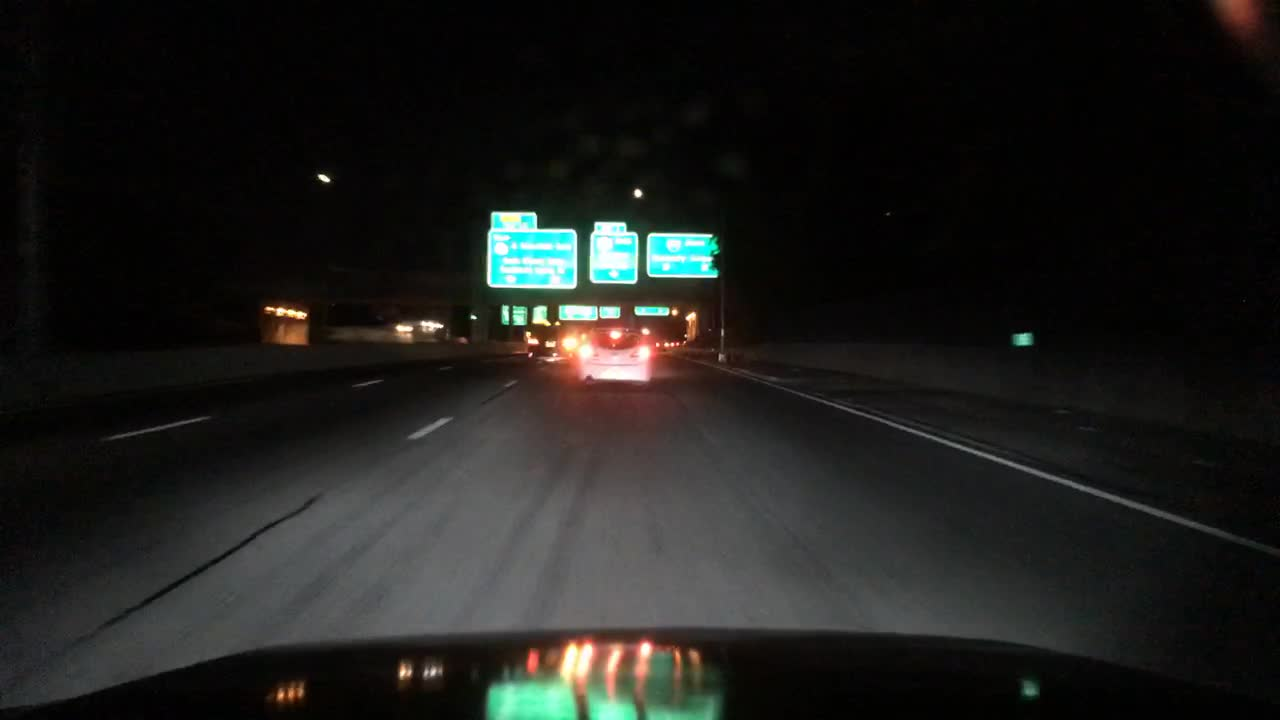car: (580, 326, 654, 387), (526, 321, 562, 363), (393, 314, 445, 335), (558, 329, 582, 355), (655, 338, 668, 353), (668, 339, 682, 348)
traffic sign: (488, 229, 577, 286), (644, 234, 719, 276), (591, 229, 636, 283), (490, 212, 537, 229), (559, 305, 596, 320), (633, 305, 668, 317), (594, 221, 626, 234), (511, 305, 525, 325), (532, 305, 545, 325), (1013, 333, 1032, 345), (599, 307, 619, 318), (501, 303, 508, 323)
